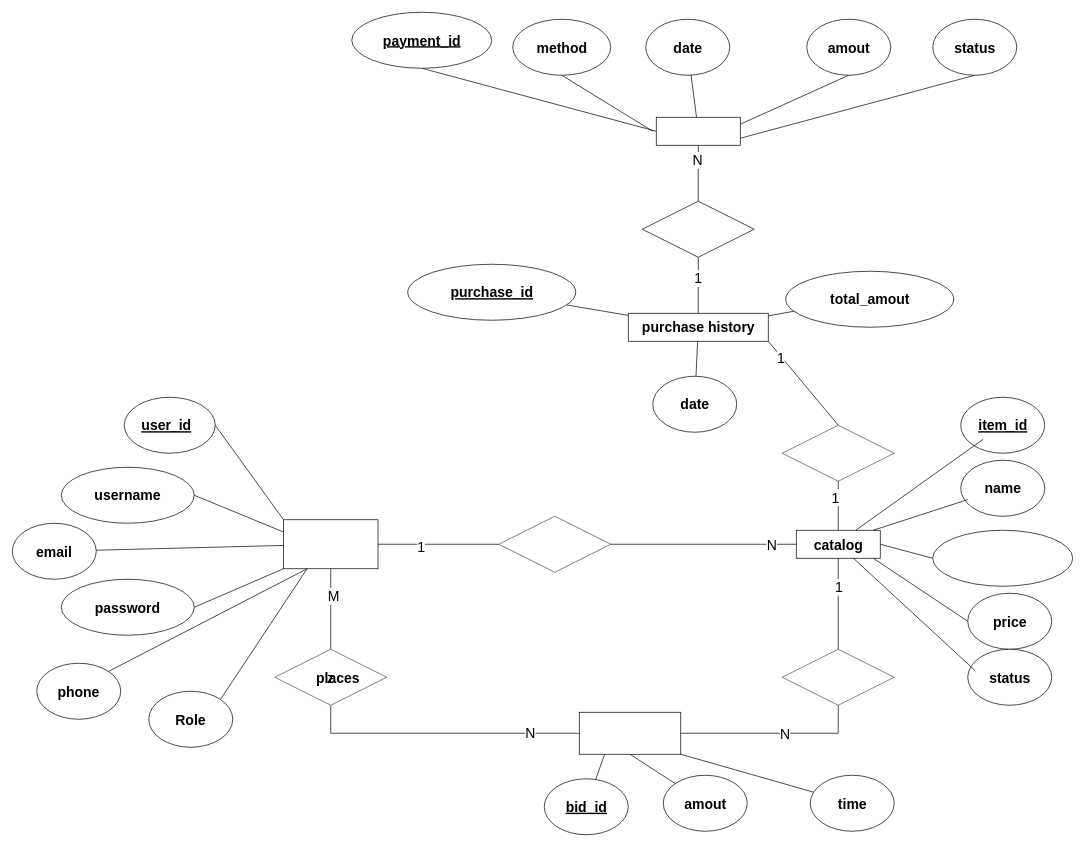
The diagram is 1085 pixels wide and 847 high, and some of its shapes have lost their labels. The shapes that lost their labels are listed below. From the top down, each one's box as (x1, y1, x2, y2) in pixels, then its label:
(656, 117, 740, 145): payment
(642, 201, 754, 257): paid by
(782, 425, 894, 481): sold in
(283, 519, 378, 569): user
(498, 516, 611, 572): list
(932, 530, 1073, 586): description
(782, 649, 894, 705): recieves
(579, 712, 681, 754): Bid
